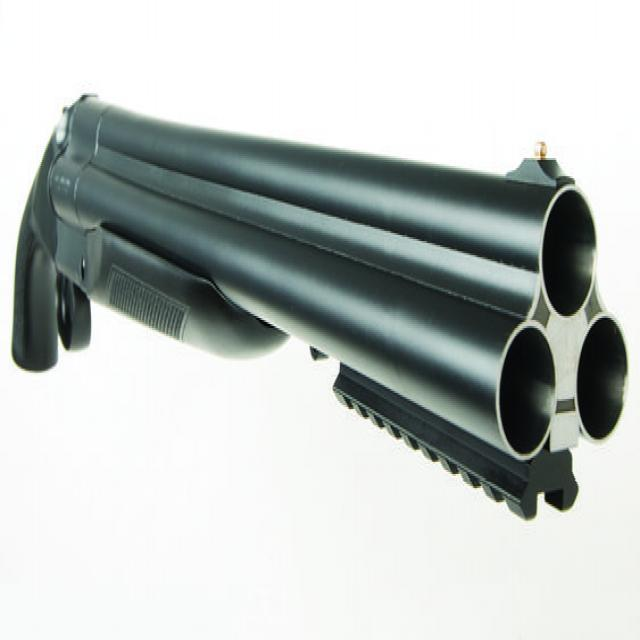shotgun: (9, 84, 630, 516)
